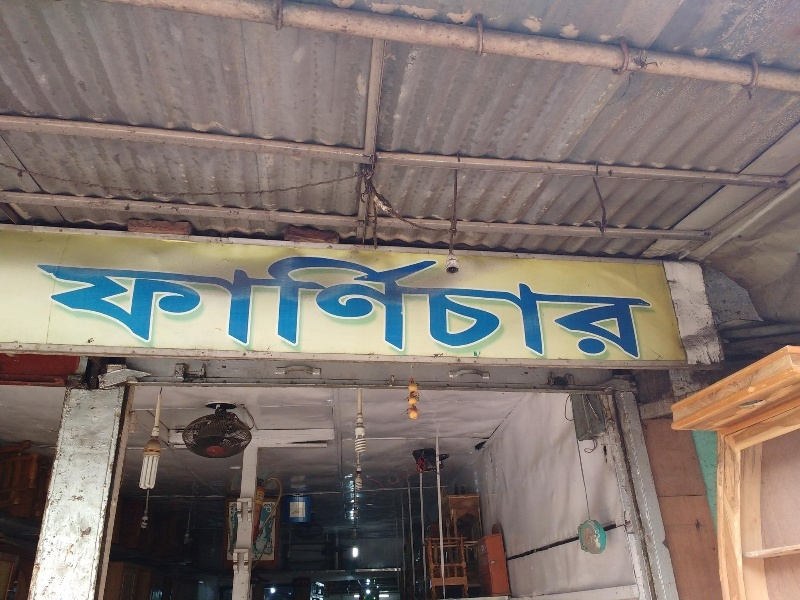text: (49, 240, 64, 361), (65, 240, 80, 361), (81, 240, 96, 361), (97, 240, 112, 361), (113, 240, 128, 361), (129, 240, 144, 361), (145, 240, 160, 361), (161, 240, 176, 361), (177, 240, 192, 361), (193, 240, 208, 361), (209, 240, 224, 361), (225, 240, 240, 361), (241, 240, 256, 361), (257, 240, 272, 361), (273, 240, 288, 361), (289, 240, 304, 361), (305, 240, 320, 361), (321, 240, 336, 361), (337, 240, 352, 361), (353, 240, 368, 361), (369, 240, 384, 361), (385, 240, 400, 361), (401, 240, 416, 361), (417, 240, 432, 361), (433, 240, 448, 361), (449, 240, 464, 361), (465, 240, 480, 361), (481, 240, 496, 361), (497, 240, 512, 361), (513, 240, 528, 361), (529, 240, 544, 361), (545, 240, 560, 361), (561, 240, 576, 361), (577, 240, 592, 361), (593, 240, 608, 361), (609, 240, 624, 361), (625, 240, 640, 361), (641, 240, 656, 361), (40, 240, 48, 361), (657, 240, 660, 361), (257, 492, 270, 504)
